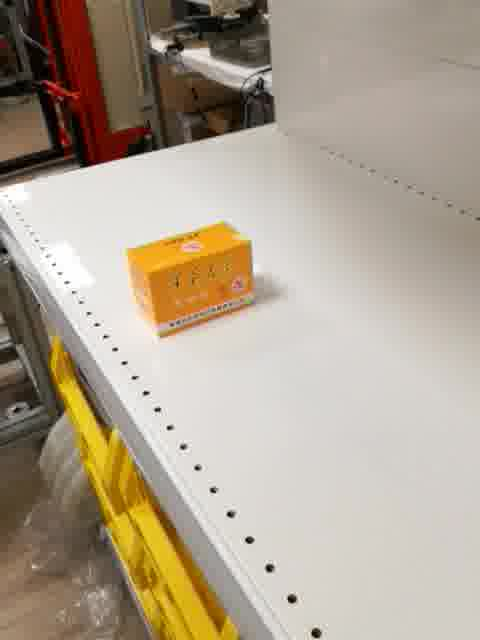jasminetea: (124, 218, 258, 339)
